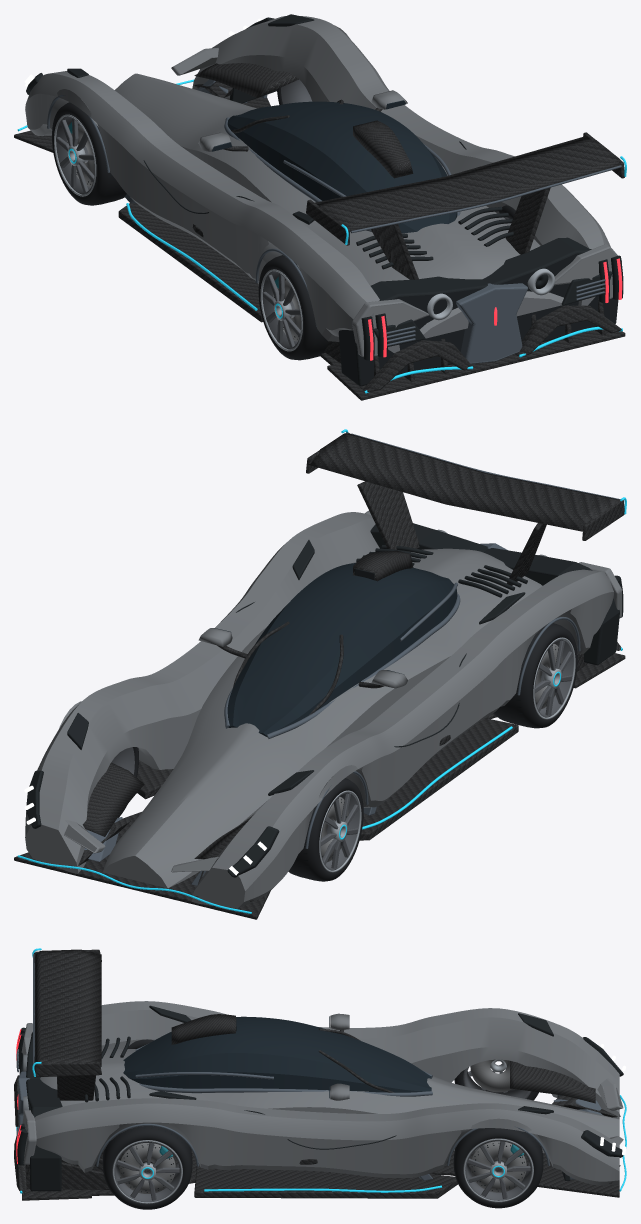
File: onyx.glb
3 views of the same model, one above another, from view 1: azimuth 30°, elevation 25°; view 2: azimuth 150°, elevation 25°; view 3: azimuth 270°, elevation 25° (orthographic). The views are drawn at different scales.
Parts seen in each view (by area): view 1: object 1, object 6; view 2: object 1, object 6; view 3: object 1, object 6.
Boxes of the visible parts, box(x1,y1,x2,y2) form: object 1: box(14, 14, 626, 400); object 6: box(24, 18, 515, 360); object 1: box(14, 429, 626, 919); object 6: box(24, 563, 577, 881); object 1: box(14, 948, 626, 1203); object 6: box(102, 1016, 626, 1209).
Bounding box in the file's own units: 2.14 × 1.33 × 4.86.
13 materials, 1 textured.
